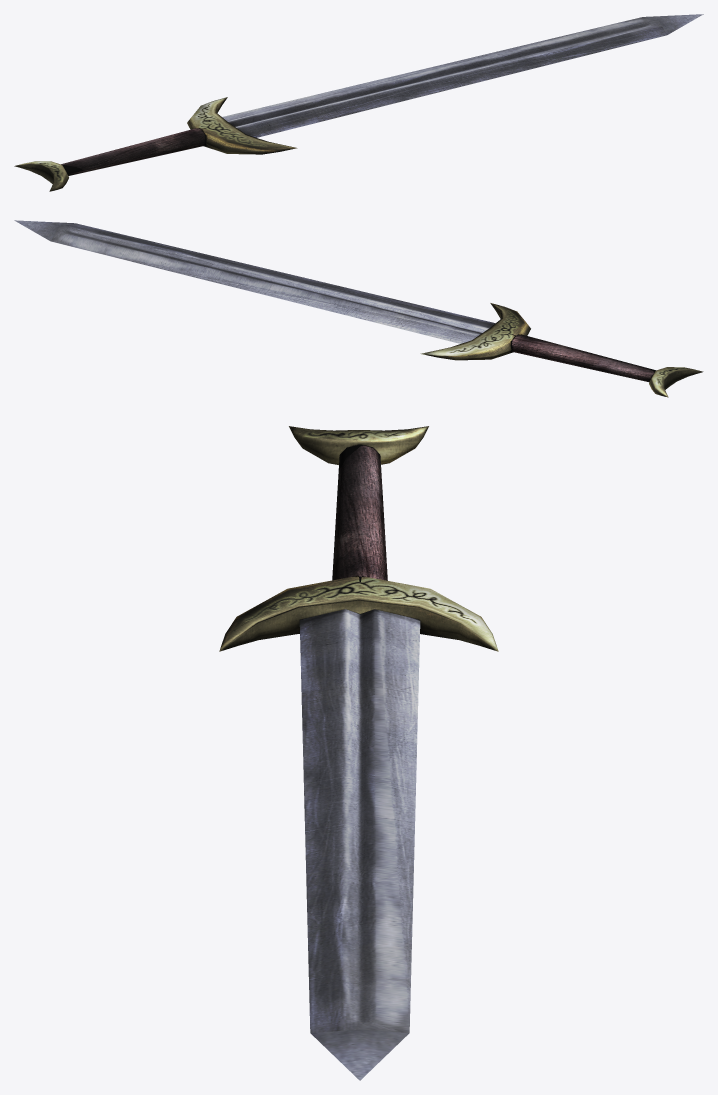
The model's file is SH_Sword_B_LOD.FBX.
3 views of the same model, one above another, from view 1: azimuth 30°, elevation 25°; view 2: azimuth 150°, elevation 25°; view 3: azimuth 270°, elevation 25° (orthographic). The views are drawn at different scales.
Visible parts, largest first — view 1: SH_Sword_B_LOD; view 2: SH_Sword_B_LOD; view 3: SH_Sword_B_LOD.
Part boxes in pixels (x1,y1,x2,y2): SH_Sword_B_LOD: [14, 14, 703, 191]; SH_Sword_B_LOD: [14, 220, 703, 397]; SH_Sword_B_LOD: [219, 426, 498, 1080].
Bounding box in the file's own units: 149 × 3.63 × 26.79.
